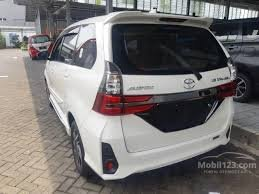mobil: (47, 28, 242, 181)
